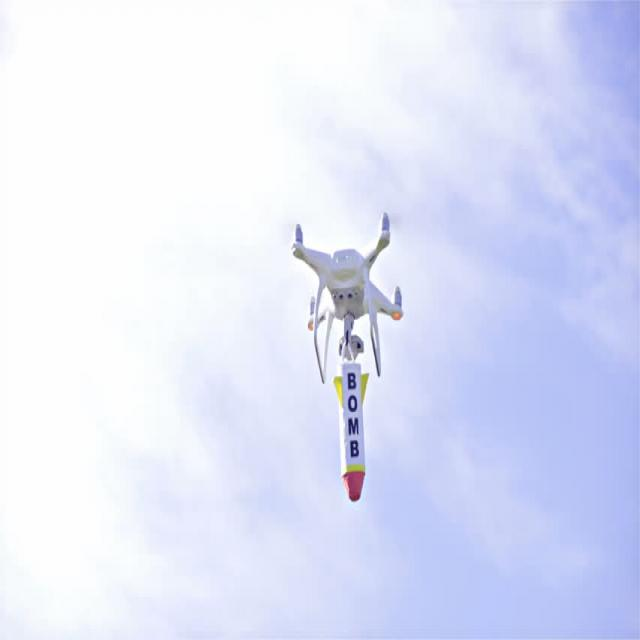drones: (280, 192, 414, 404)
